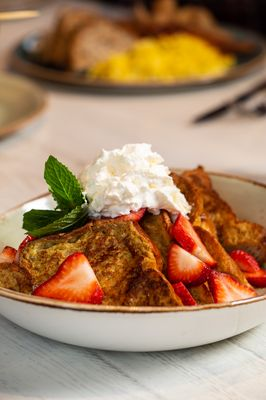sushi: (0, 124, 266, 353)
